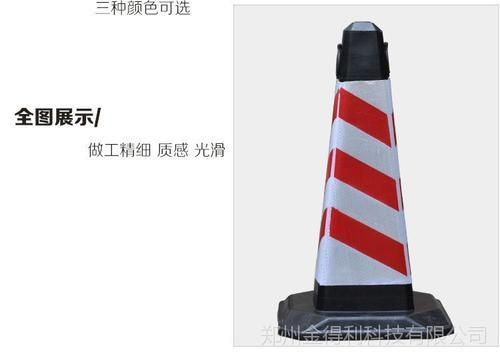cone_barrel: (287, 22, 432, 320)
